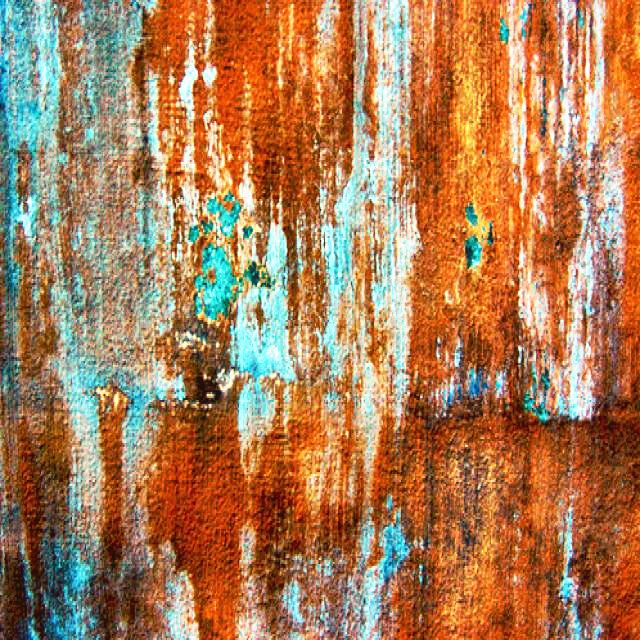Corrosion: (392, 413, 640, 640), (196, 1, 352, 272), (410, 0, 520, 376), (0, 161, 84, 640), (239, 379, 380, 612), (147, 397, 247, 640), (133, 0, 231, 226), (156, 299, 238, 404), (287, 231, 329, 382)
